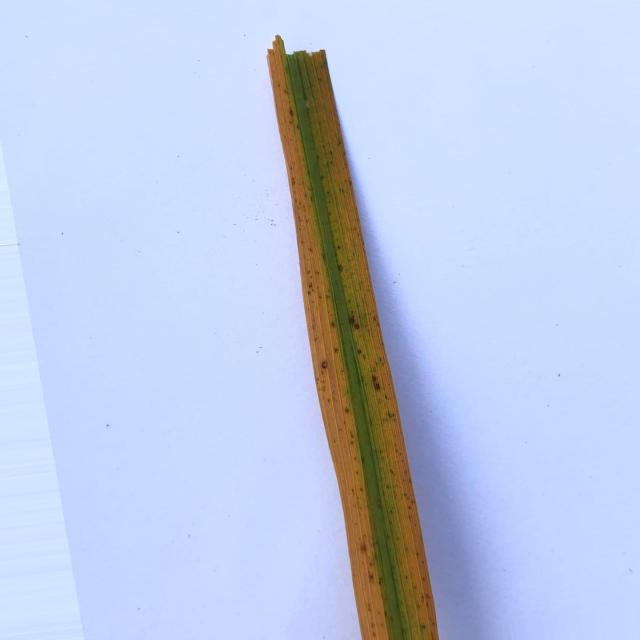Rice Tungro: (268, 36, 438, 639)
